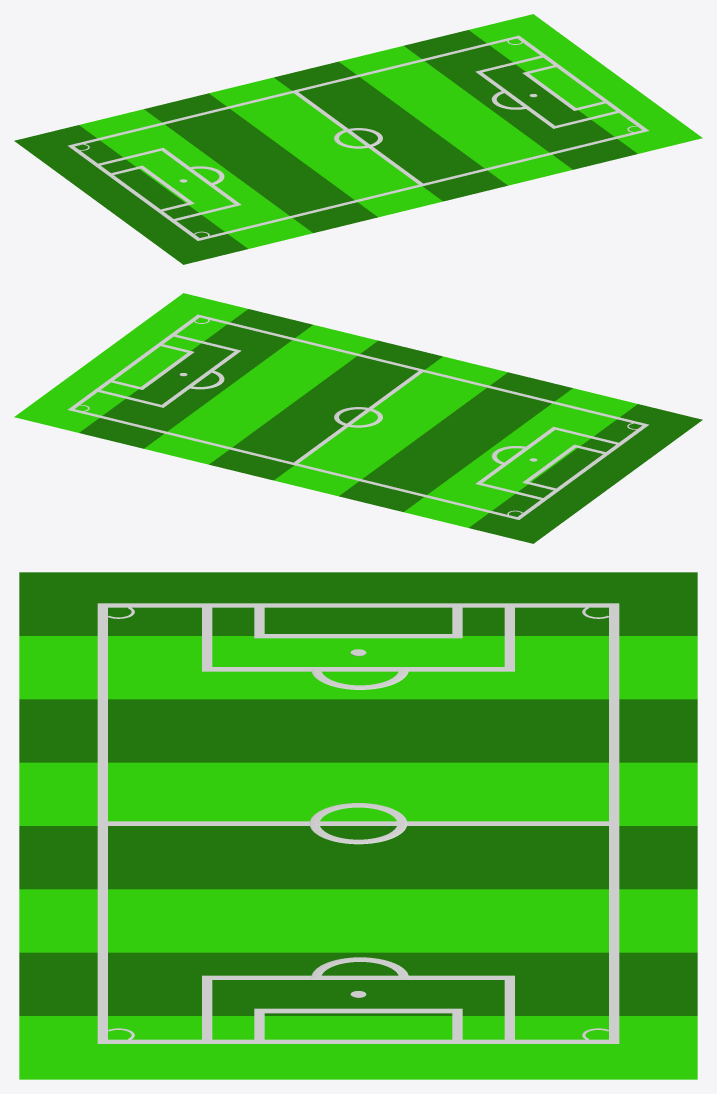
The model's file is Lapangan.fbx.
3 views of the same model, one above another, from view 1: azimuth 30°, elevation 25°; view 2: azimuth 150°, elevation 25°; view 3: azimuth 270°, elevation 25° (orthographic). The views are drawn at different scales.
Parts seen in each view (by area): view 1: Plane, Plane.004, Plane.005, Plane.003, Plane.002, Plane.001; view 2: Plane, Plane.004, Plane.005, Plane.003, Plane.002, Plane.001; view 3: Plane, Plane.004, Plane.005, Plane.003, Plane.002, Plane.001, Plane.015, Plane.012, Torus, Plane.009, Plane.006.
Part boxes in pixels (bbox=[...]): Plane: bbox=[14, 14, 702, 264]; Plane.004: bbox=[68, 35, 521, 147]; Plane.005: bbox=[200, 130, 644, 239]; Plane.003: bbox=[70, 146, 201, 240]; Plane.002: bbox=[517, 37, 648, 131]; Plane.001: bbox=[294, 92, 425, 186]; Plane: bbox=[14, 293, 702, 543]; Plane.004: bbox=[68, 408, 521, 519]; Plane.005: bbox=[200, 315, 644, 425]; Plane.003: bbox=[515, 423, 648, 519]; Plane.002: bbox=[70, 314, 201, 408]; Plane.001: bbox=[294, 369, 425, 463]; Plane: bbox=[19, 572, 697, 1079]; Plane.004: bbox=[609, 603, 619, 1043]; Plane.005: bbox=[97, 607, 107, 1039]; Plane.003: bbox=[97, 603, 618, 607]; Plane.002: bbox=[97, 1039, 608, 1043]; Plane.001: bbox=[97, 821, 608, 825]; Plane.015: bbox=[202, 975, 514, 979]; Plane.012: bbox=[202, 667, 514, 671]; Torus: bbox=[309, 803, 407, 844]; Plane.009: bbox=[254, 1008, 462, 1013]; Plane.006: bbox=[254, 634, 462, 638].
Size of the model in its own units: 4600 by 12.13 by 2600.
